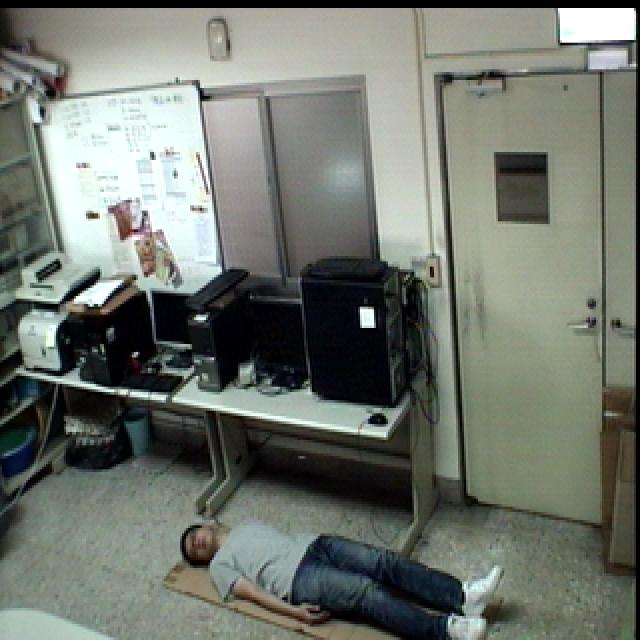lie: (174, 503, 514, 640)
